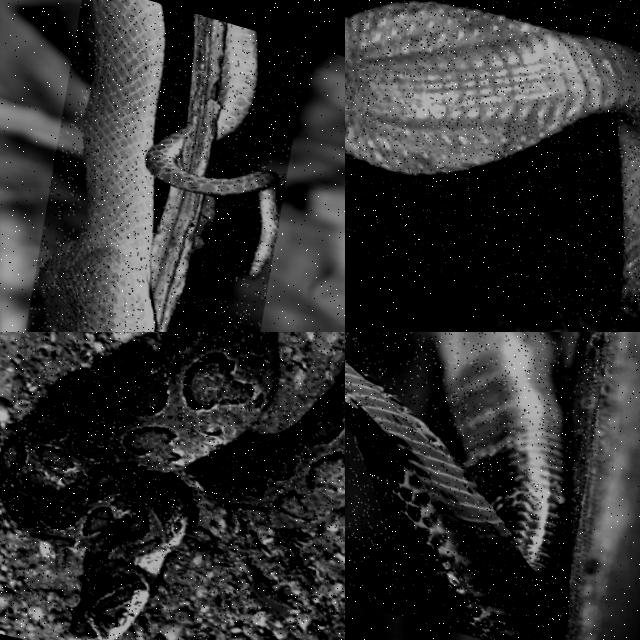Daboia siamensis: (0, 332, 344, 639)
Naja kaouthia: (345, 0, 639, 318)
Ophiophagus hannah: (345, 332, 567, 639)
Trimeresurus macrops: (39, 0, 278, 331)
snake: (0, 332, 344, 639), (345, 0, 639, 318), (39, 0, 278, 331), (345, 332, 567, 639)
